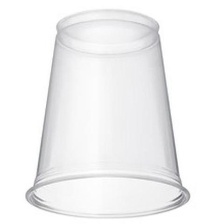glass: (21, 9, 196, 221)
